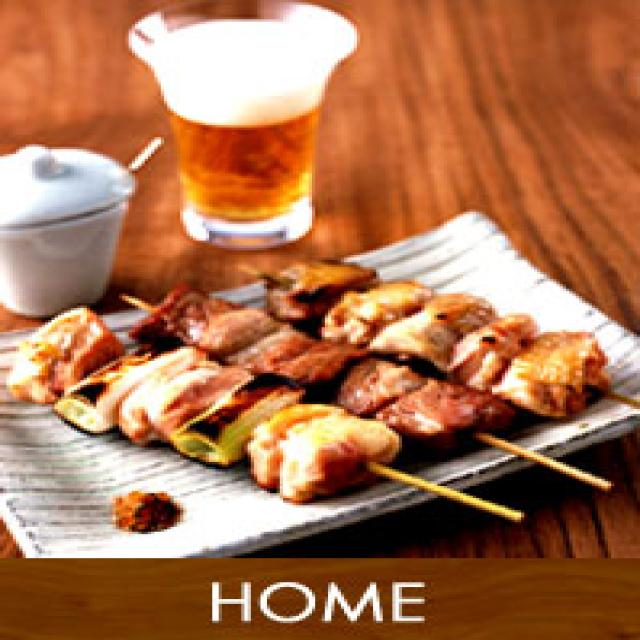烧串烤肉: (0, 238, 640, 537)
